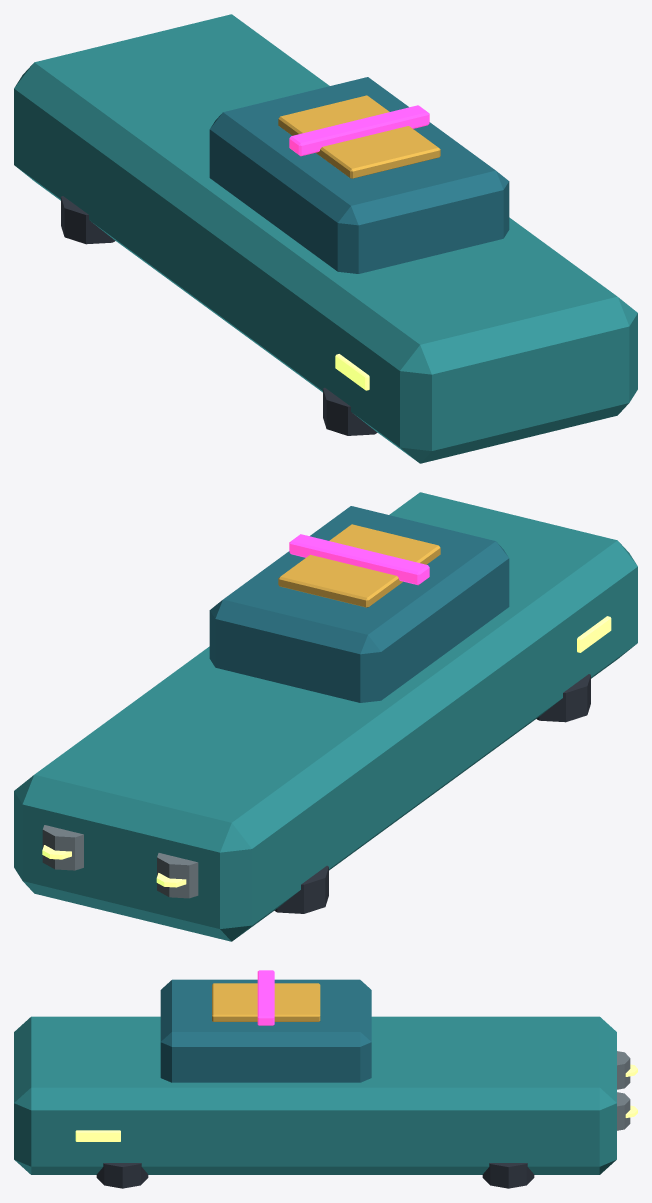
Rendered from vehicles_009_seed11.glb.
3 renders of one model, top to bottom at view 1: azimuth 30°, elevation 25°; view 2: azimuth 150°, elevation 25°; view 3: azimuth 270°, elevation 25°, orthographic. The views are drawn at different scales.
Parts seen in each view (by area): view 1: vehicles_009_seed11; view 2: vehicles_009_seed11; view 3: vehicles_009_seed11.
Boxes of the visible parts, left/top/right/bottom form: vehicles_009_seed11: left=14, top=14, right=637, bottom=463; vehicles_009_seed11: left=14, top=492, right=637, bottom=941; vehicles_009_seed11: left=14, top=970, right=637, bottom=1188.
Size of the model in its own units: 2.06 by 1.55 by 5.78.
